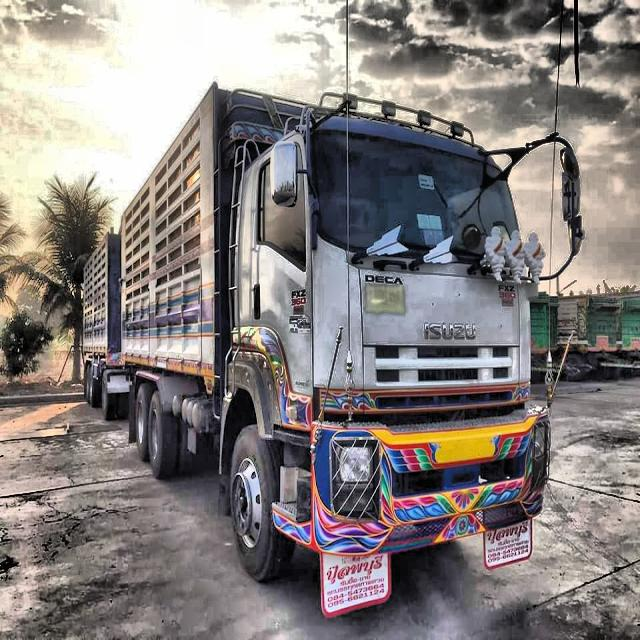trailer: (78, 76, 583, 624)
